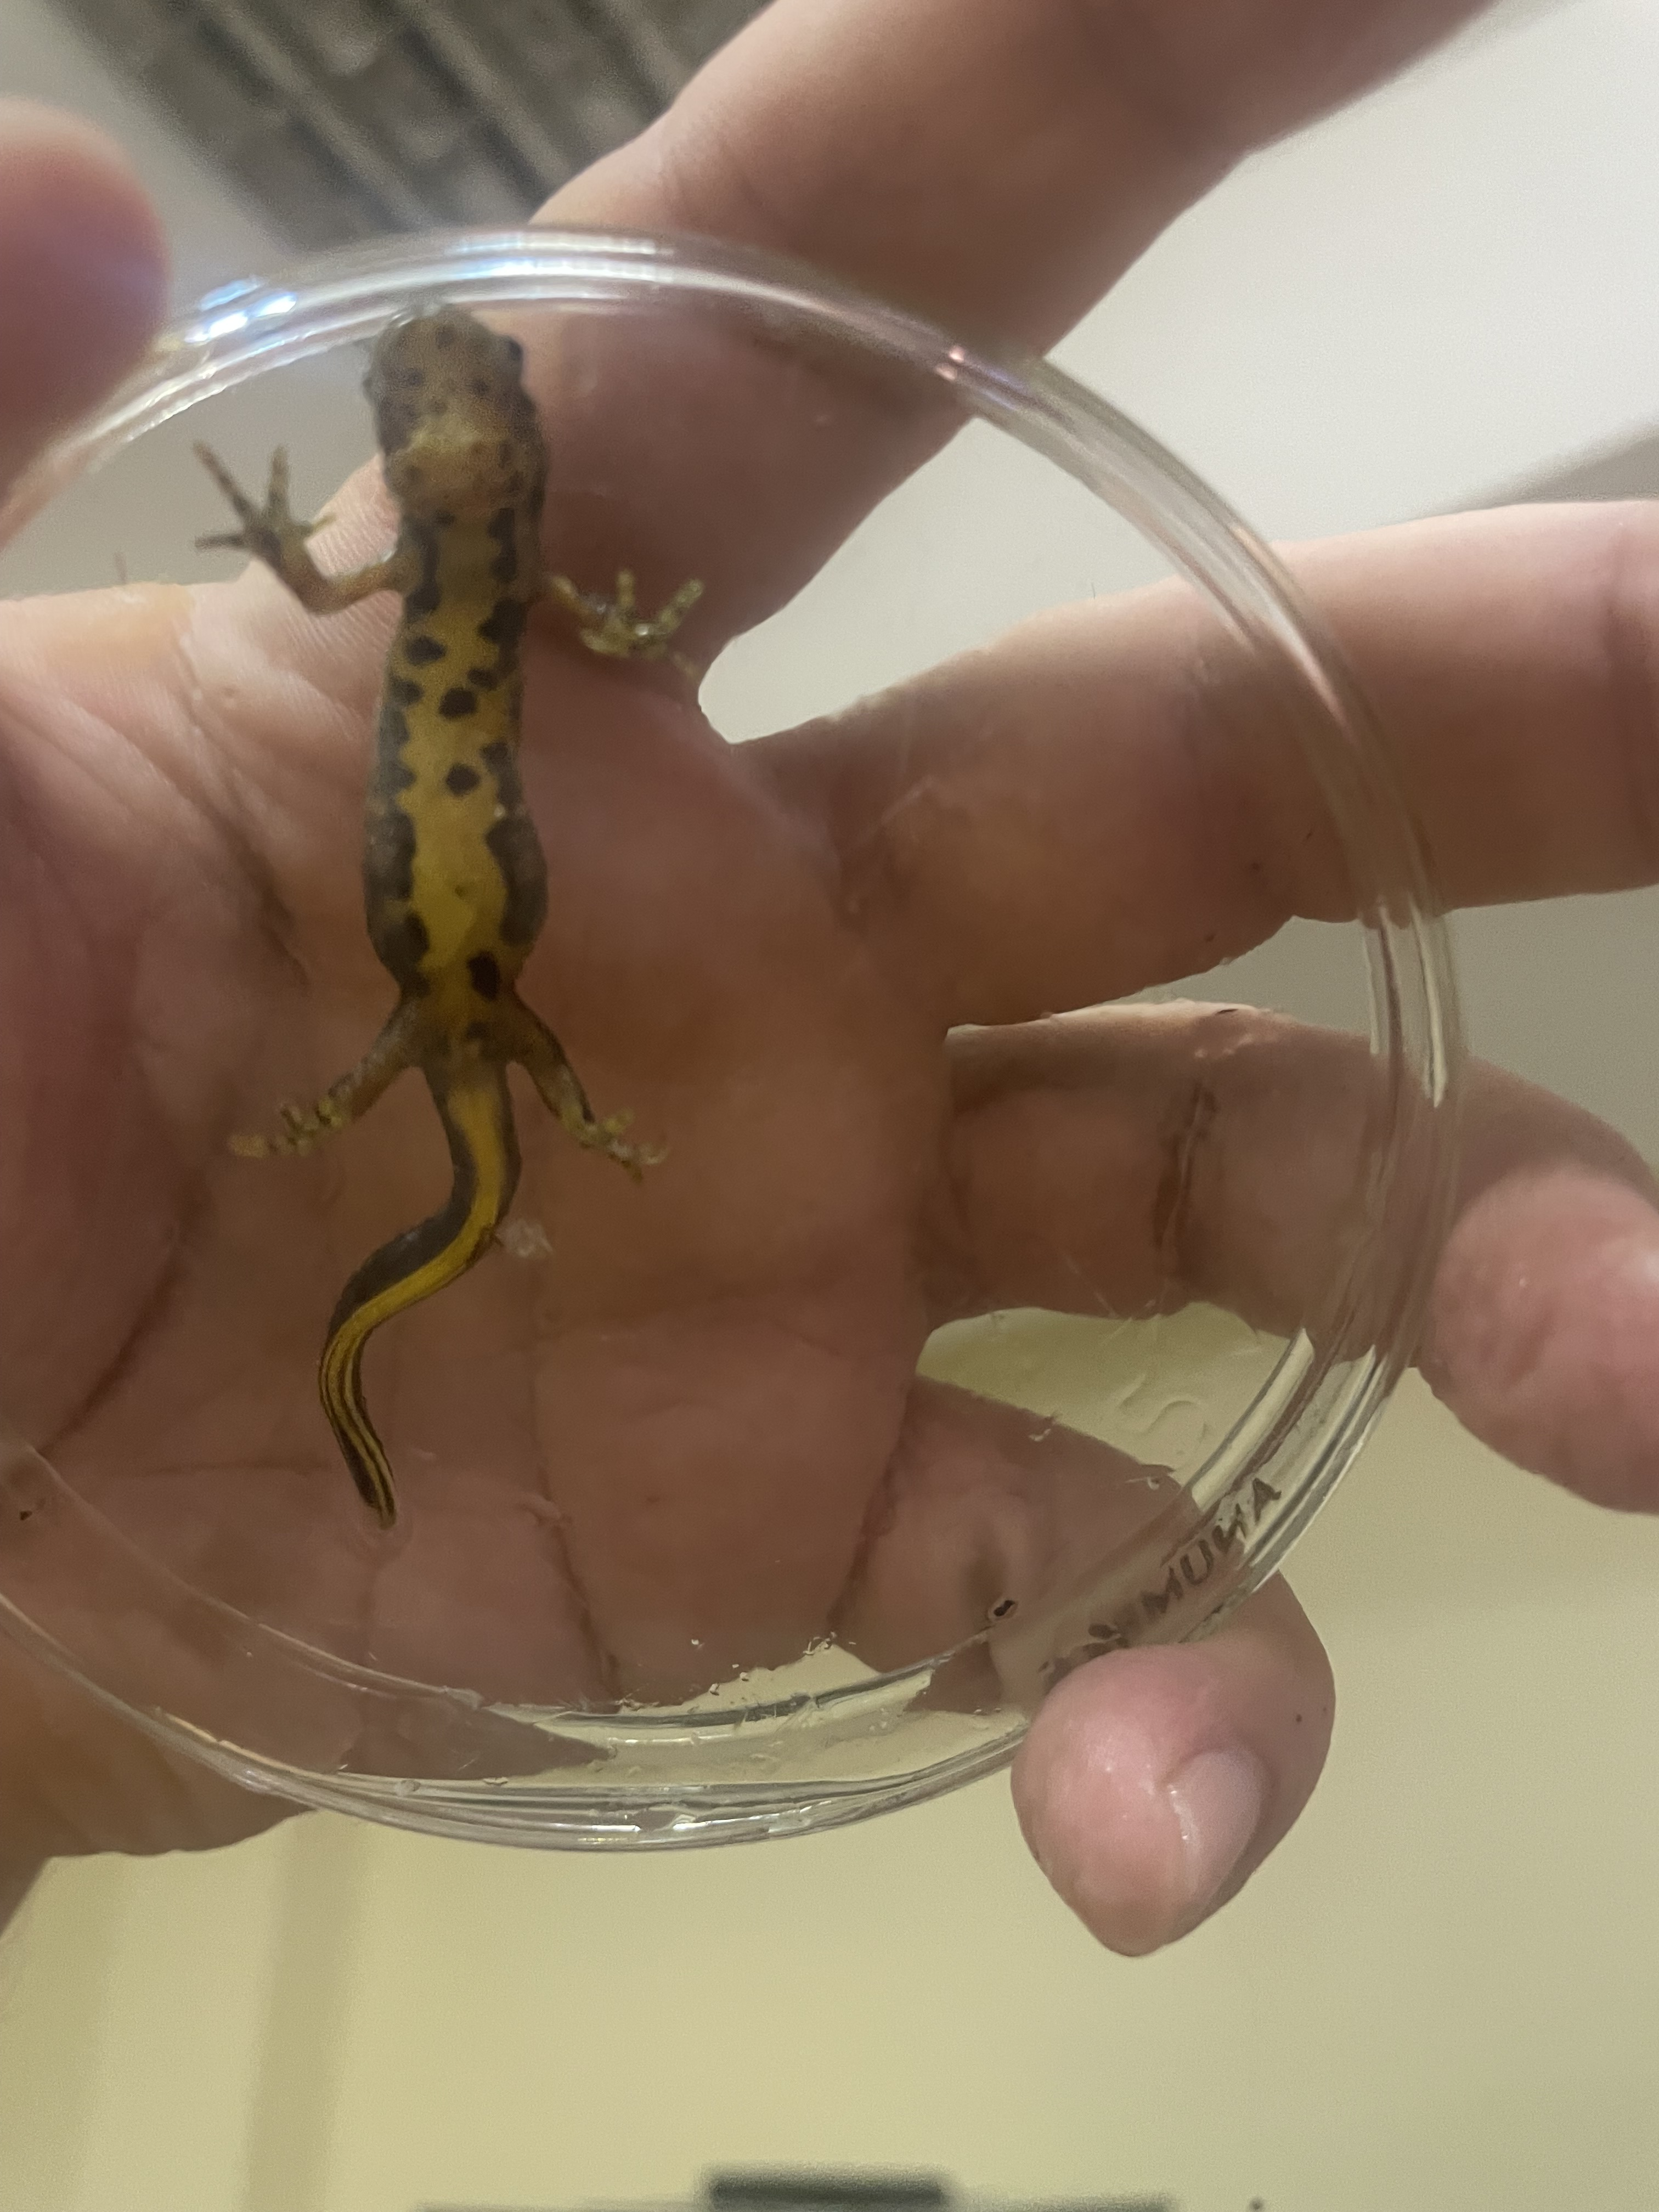Karelin_newt: (361, 594, 549, 986)
